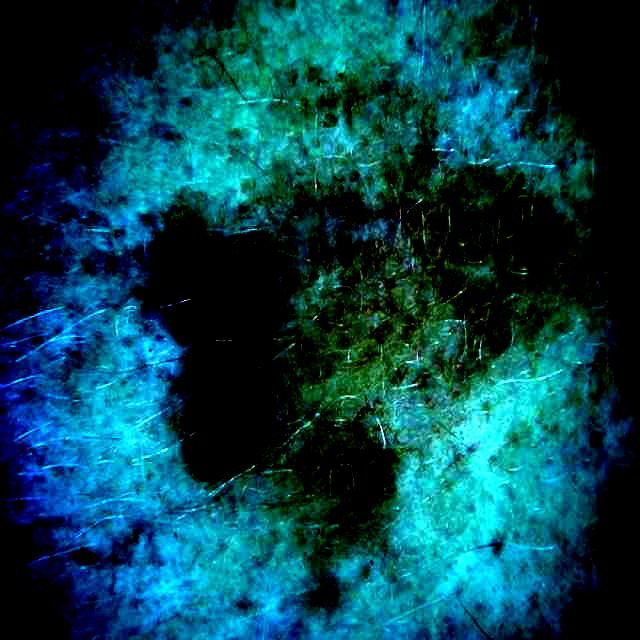BKL: (150, 114, 566, 513)
